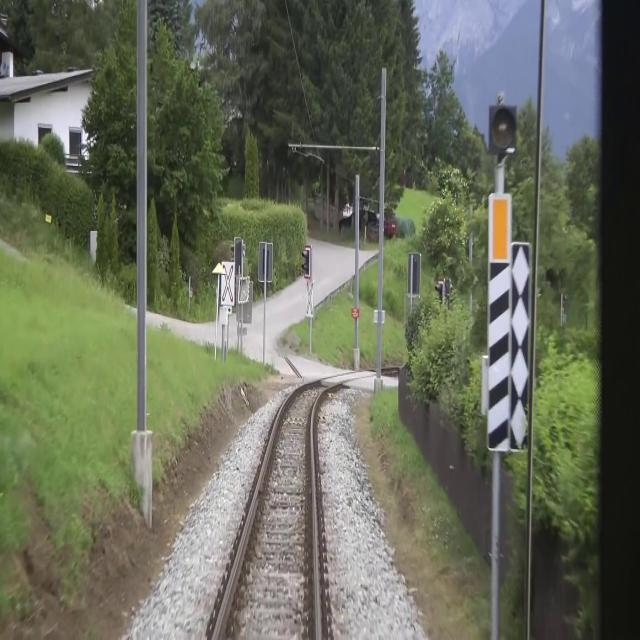rail-track: (219, 382, 330, 639)
